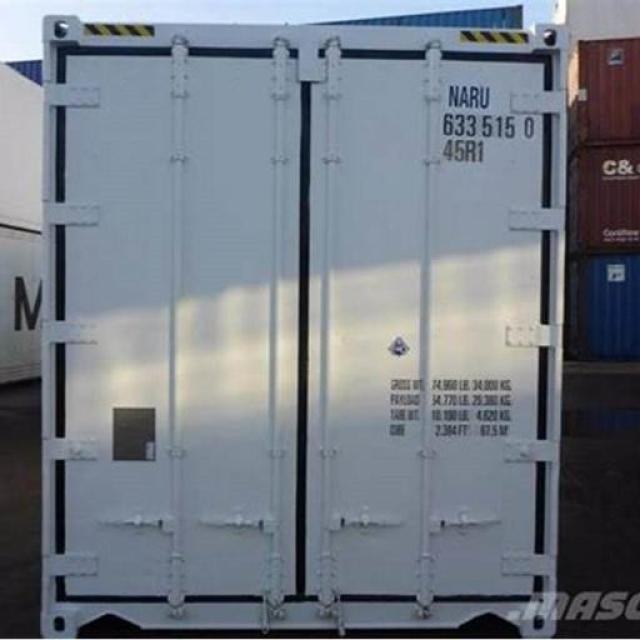ISO: (446, 140, 486, 164)
container_number: (441, 81, 535, 140)
